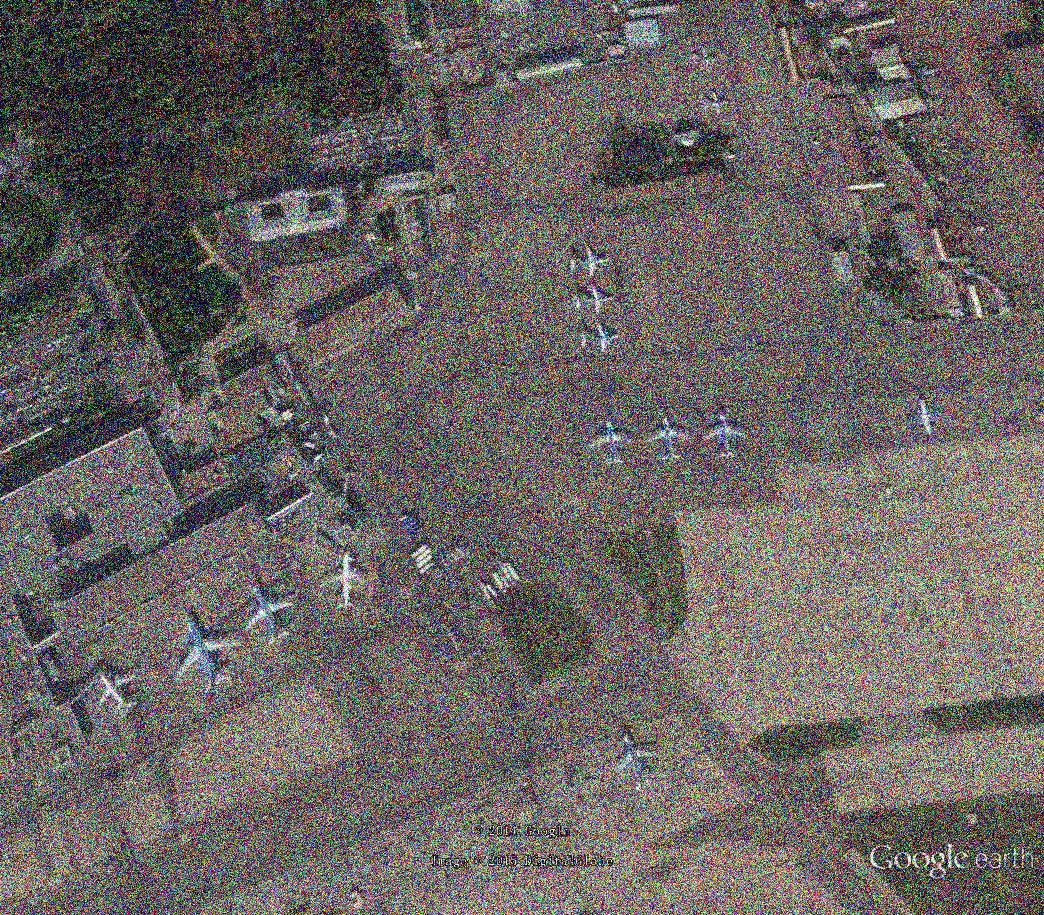aircraft: (168, 613, 243, 699), (239, 580, 301, 650), (317, 547, 374, 615), (611, 730, 664, 796), (586, 416, 640, 473), (645, 414, 698, 467), (700, 410, 749, 464), (92, 670, 142, 721), (902, 400, 954, 445), (576, 317, 624, 360), (567, 239, 610, 282), (571, 280, 618, 319), (700, 85, 731, 120), (690, 44, 721, 76)
